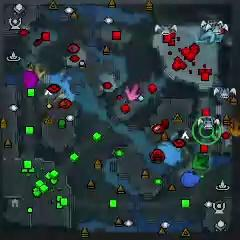p1: (182, 172, 200, 187)
p3: (22, 69, 38, 88)
x1: (125, 84, 143, 101)
x2: (30, 62, 47, 81)
x3: (200, 30, 215, 43)
x4: (193, 154, 209, 170)
x5: (228, 119, 240, 137)
